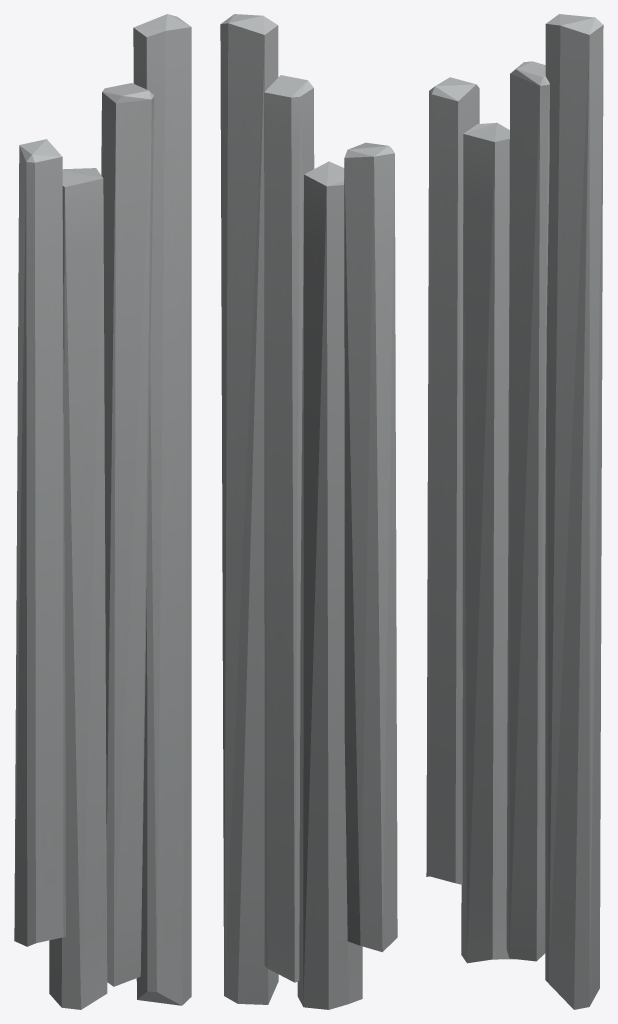
The model's file is Rock_20m_1.fbx.
The picture shows the model from 3 angles, left to right: view 1: azimuth 30°, elevation 25°; view 2: azimuth 150°, elevation 25°; view 3: azimuth 330°, elevation 25°; orthographic projection.
Visible parts, largest first — view 1: rock_20m_1; view 2: rock_20m_1; view 3: rock_20m_1.
Part boxes in pixels (x1,y1,x2,y2): rock_20m_1: [14, 14, 191, 1009]; rock_20m_1: [220, 14, 397, 1009]; rock_20m_1: [426, 14, 603, 1009].
Size of the model in its own units: 3.5 by 20 by 1.
Materials: 1 (1 with a texture image).
